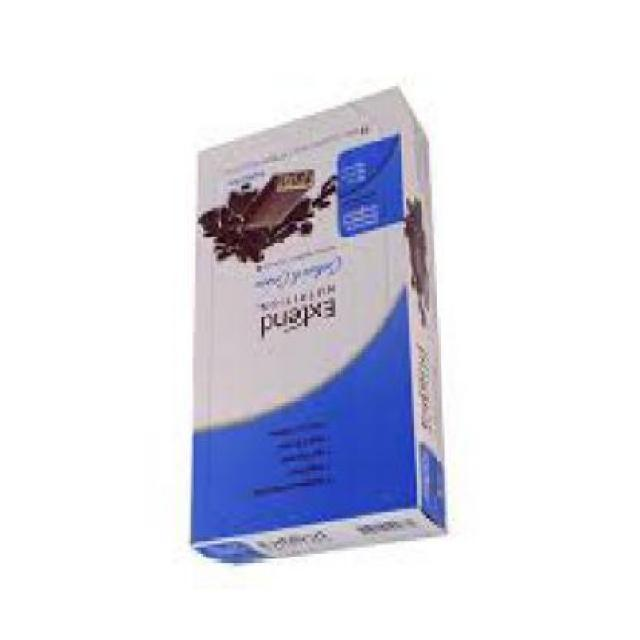box: (194, 94, 449, 571)
